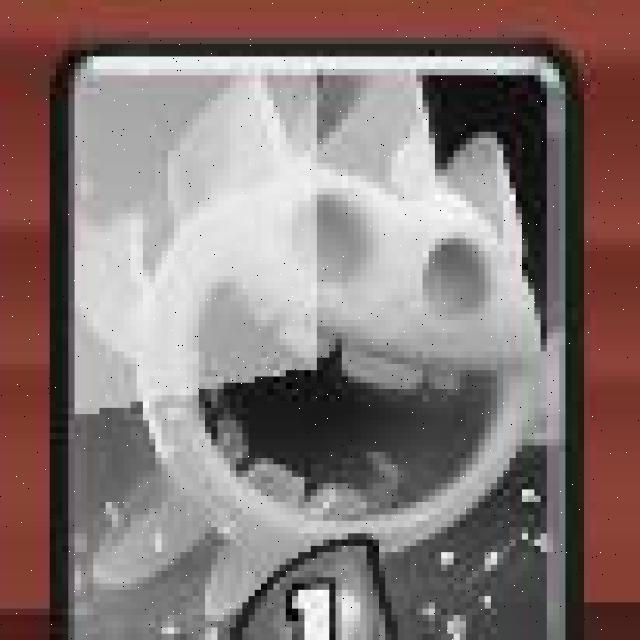Ice_Spirit: (55, 46, 582, 640)
